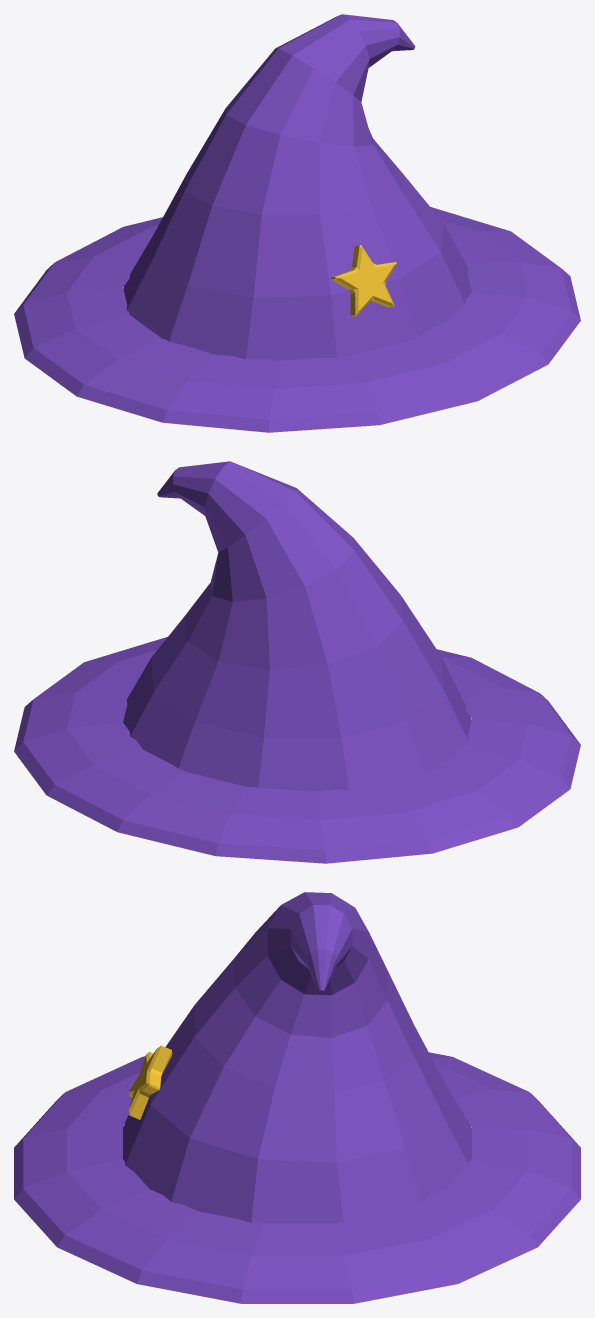
File: wizard_hat.glb
The picture shows the model from 3 angles, top to bottom: view 1: azimuth 30°, elevation 25°; view 2: azimuth 150°, elevation 25°; view 3: azimuth 270°, elevation 25°; orthographic projection. The views are drawn at different scales.
Visible parts, largest first — view 1: wizard_hat; view 2: wizard_hat; view 3: wizard_hat.
Boxes of the visible parts, bbox=[...] form: wizard_hat: bbox=[14, 14, 580, 432]; wizard_hat: bbox=[14, 461, 580, 863]; wizard_hat: bbox=[14, 892, 580, 1303].
Size of the model in its own units: 0.8925 by 0.4799 by 0.8211.
